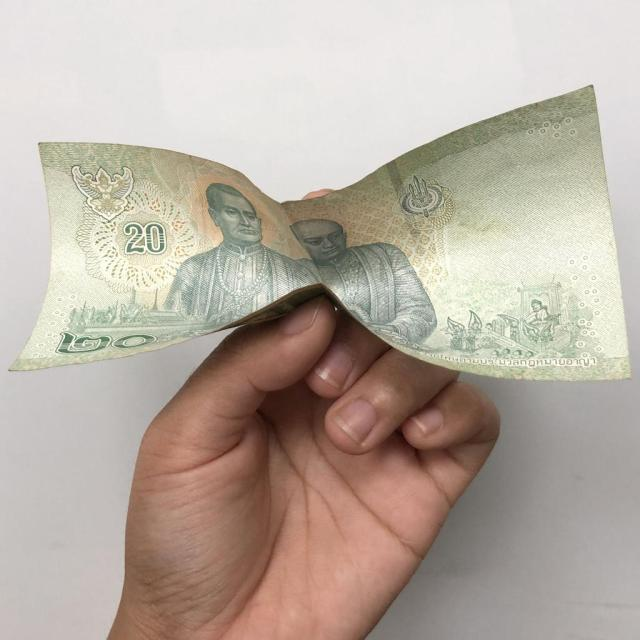THAI20: (12, 88, 629, 380)
